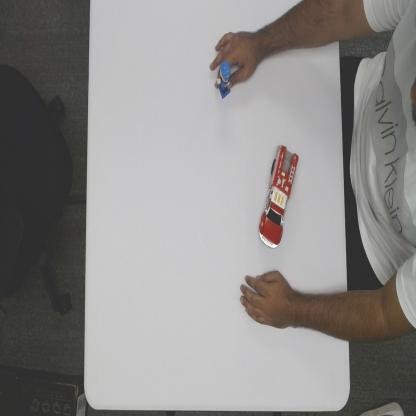Arm: (257, 0, 339, 63), (292, 288, 348, 341)
Firetruck: (258, 144, 298, 250)
Hand: (239, 267, 292, 332), (208, 29, 258, 89)
